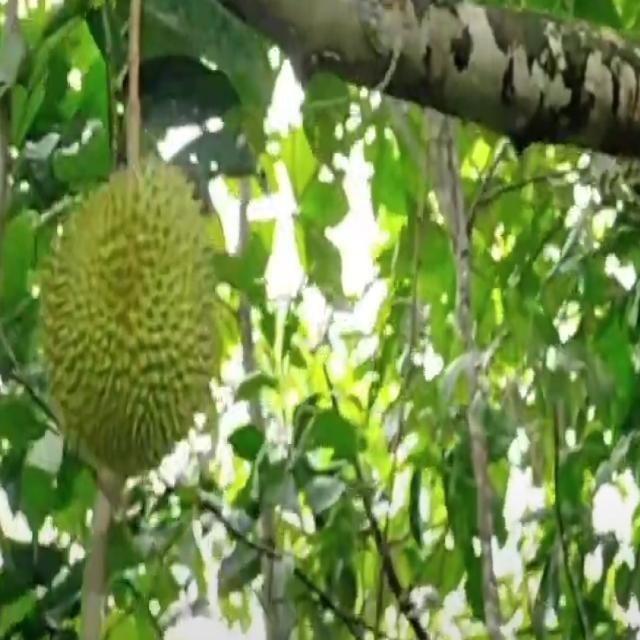immature: (34, 151, 222, 477)
